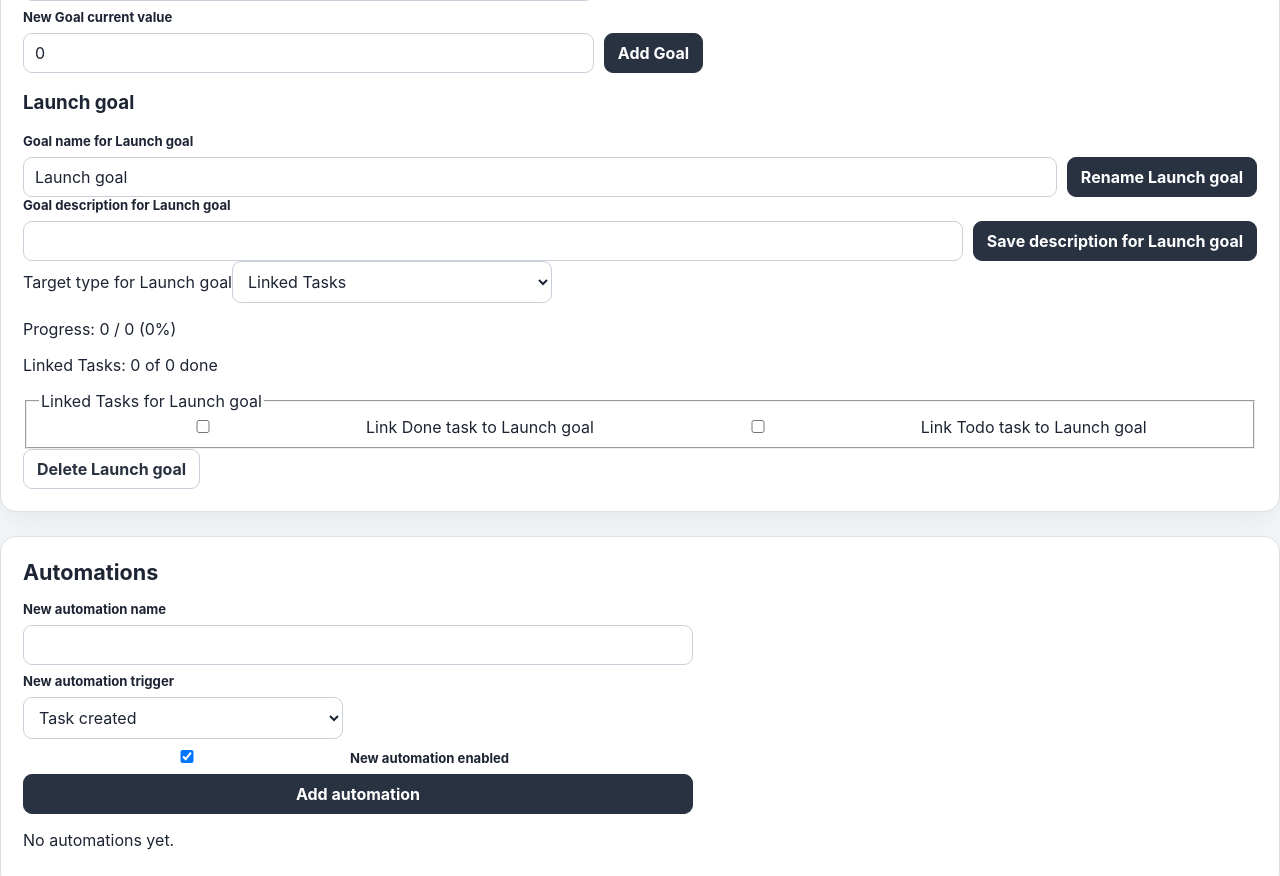
Test: WorkspaceRoot linked-Task Goals › links and unlinks Tasks with Goal checkboxes
(page scrolled)
Click the checkbox labelled "Link Done task to Launch goal".
click(203, 426)  # box [43,420,363,433]
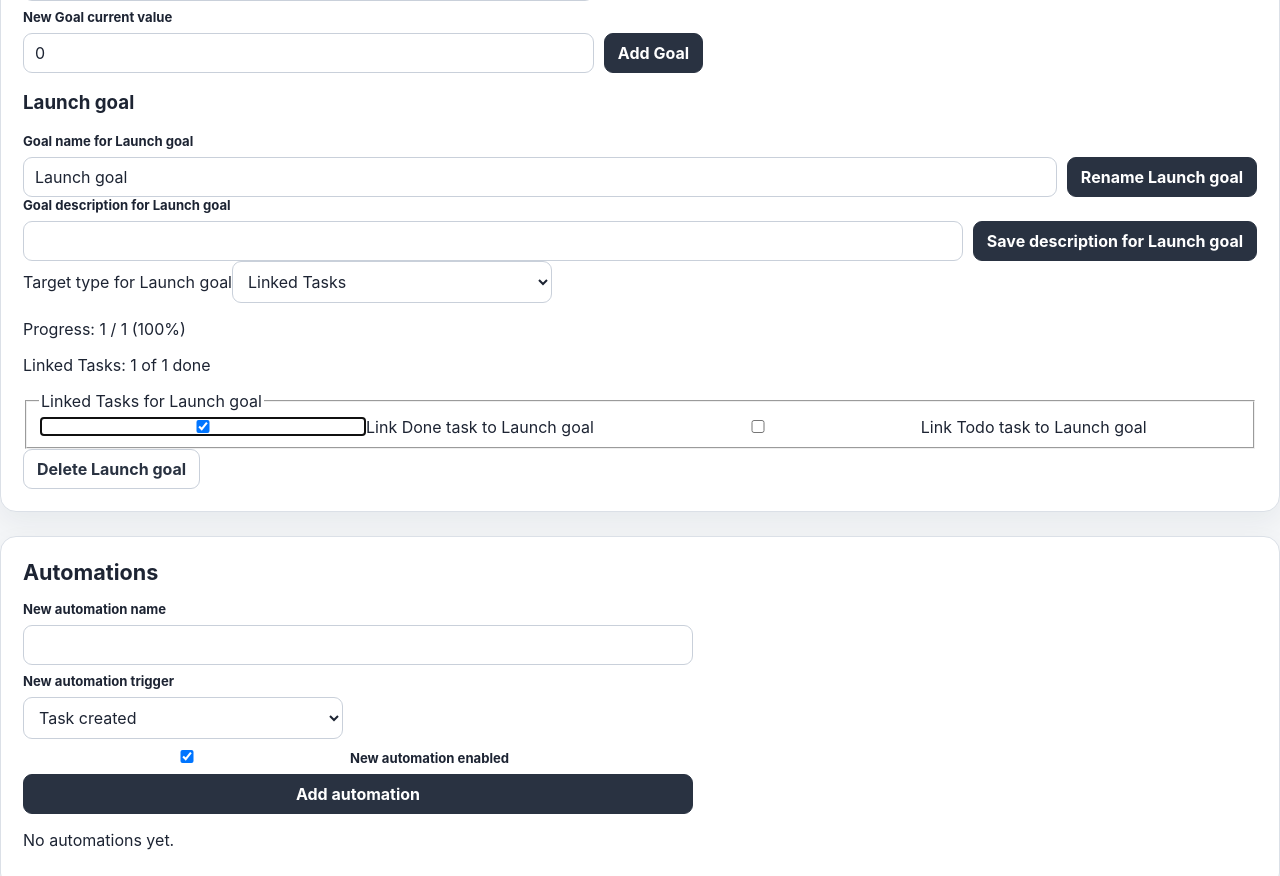
Check: the text "Linked Tasks: 1 of 1 done" is shown, box [23,355,211,375]
Click the checkbox labelled "Link Done task to Launch goal".
click(203, 426)  # box [43,420,363,433]
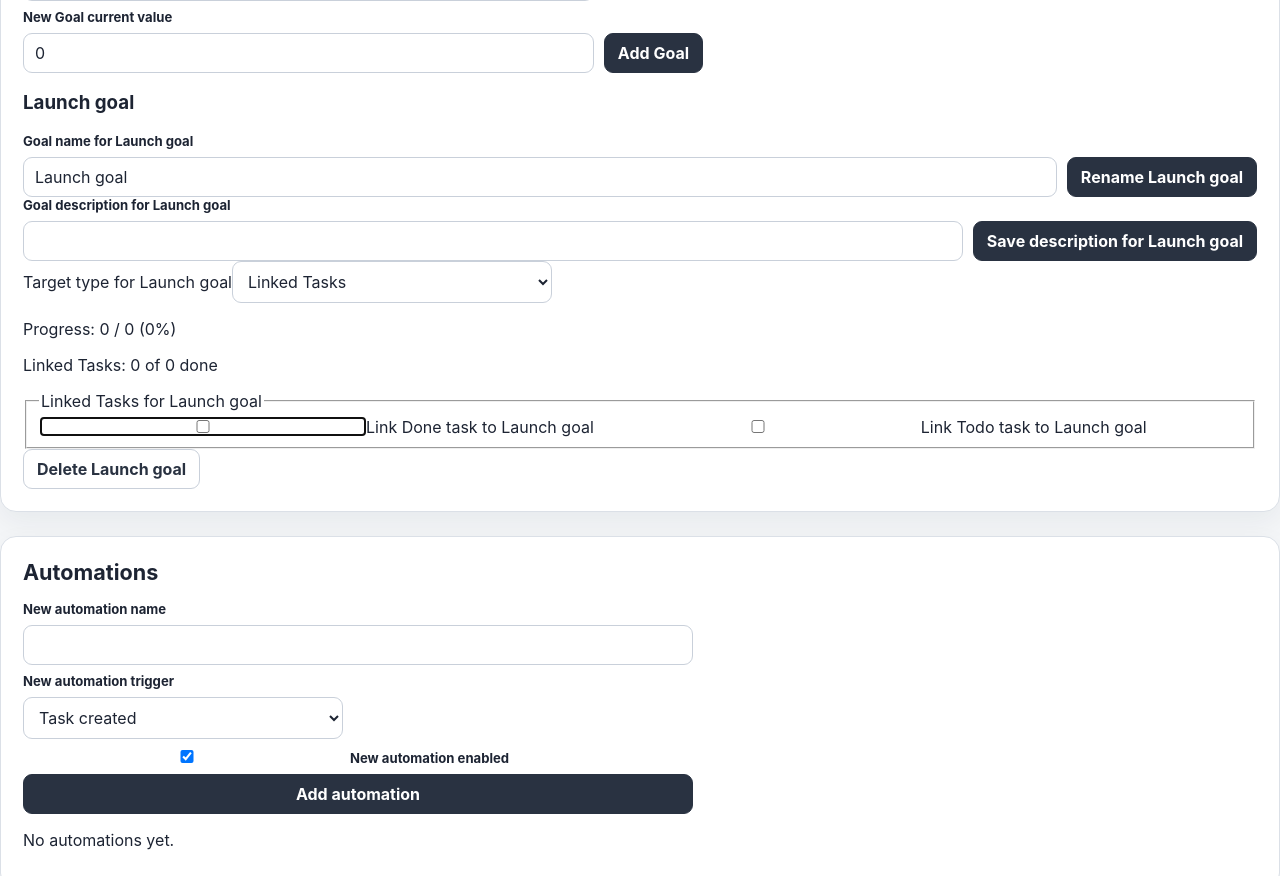
Check: the text "Linked Tasks: 0 of 0 done" is shown, box [23,355,218,375]
